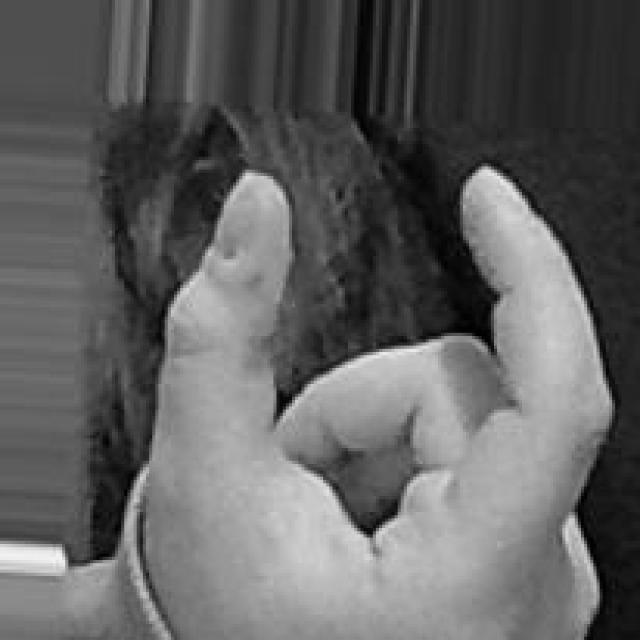U: (131, 161, 620, 640)
